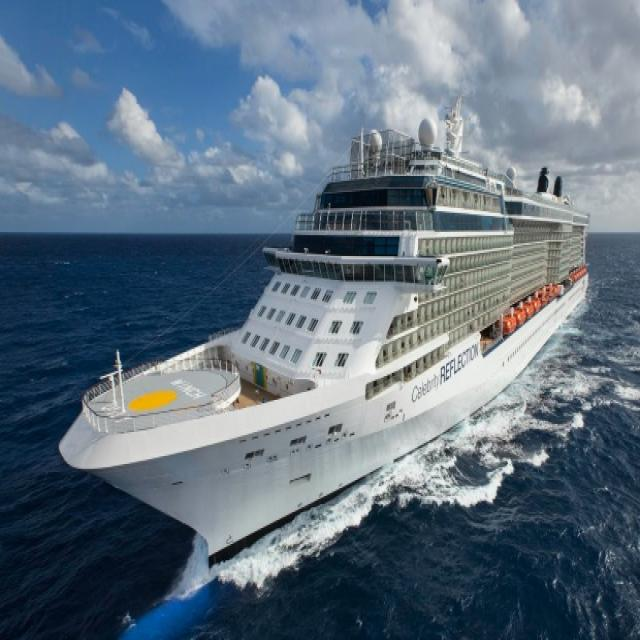passenger ship: (64, 108, 596, 582)
